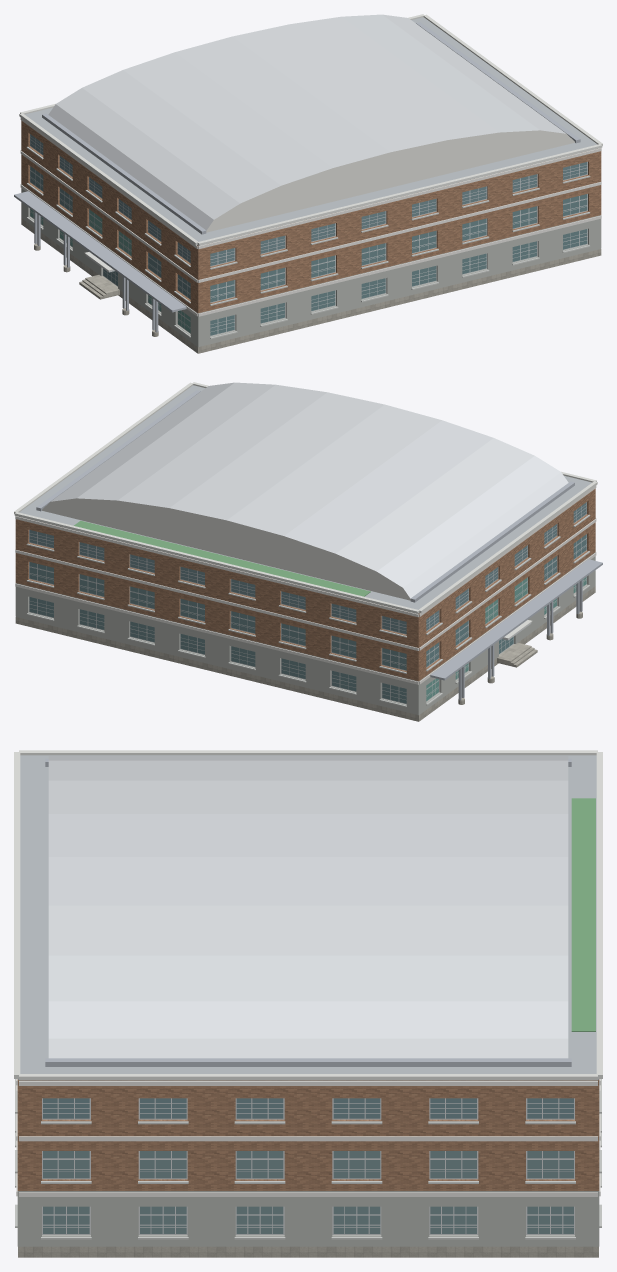
3 renders of one model, top to bottom at view 1: azimuth 30°, elevation 25°; view 2: azimuth 150°, elevation 25°; view 3: azimuth 270°, elevation 25°, orthographic. The views are drawn at different scales.
Visible parts, largest first — view 1: yunsong__vaultroof, yunsong__redbrick, yunsong__concrete, yunsong__panel, yunsong__glass, yunsong__metalroof, yunsong__band, yunsong__metalpanel, yunsong__frame, yunsong__cap, yunsong__stone, yunsong__clerestoryglass (+2 smaller); view 2: yunsong__vaultroof, yunsong__redbrick, yunsong__concrete, yunsong__panel, yunsong__glass, yunsong__band, yunsong__metalpanel, yunsong__frame, yunsong__cap, yunsong__metalroof, yunsong__stone, yunsong__clerestoryglass (+3 smaller); view 3: yunsong__vaultroof, yunsong__redbrick, yunsong__concrete, yunsong__metalroof, yunsong__sideglass, yunsong__cap, yunsong__band, yunsong__frame, yunsong__stone, yunsong__roofturf, yunsong__clerestoryglass, yunsong__metalpanel (+1 smaller).
Part boxes in pixels (x1=…): yunsong__vaultroof: x1=48, y1=14, x2=565, y2=230; yunsong__redbrick: x1=21, y1=120, x2=601, y2=313; yunsong__concrete: x1=21, y1=184, x2=601, y2=347; yunsong__panel: x1=206, y1=130, x2=574, y2=232; yunsong__glass: x1=30, y1=166, x2=587, y2=335; yunsong__metalroof: x1=25, y1=17, x2=597, y2=245; yunsong__band: x1=20, y1=117, x2=601, y2=316; yunsong__metalpanel: x1=14, y1=22, x2=580, y2=332; yunsong__frame: x1=30, y1=134, x2=587, y2=336; yunsong__cap: x1=19, y1=14, x2=602, y2=271; yunsong__stone: x1=21, y1=218, x2=601, y2=353; yunsong__clerestoryglass: x1=30, y1=134, x2=587, y2=265; yunsong__vaultroof: x1=51, y1=382, x2=568, y2=598; yunsong__redbrick: x1=15, y1=488, x2=595, y2=681; yunsong__concrete: x1=15, y1=552, x2=595, y2=715; yunsong__panel: x1=42, y1=498, x2=410, y2=600; yunsong__glass: x1=29, y1=534, x2=586, y2=703; yunsong__band: x1=15, y1=485, x2=596, y2=684; yunsong__metalpanel: x1=36, y1=390, x2=602, y2=700; yunsong__frame: x1=29, y1=502, x2=586, y2=704; yunsong__cap: x1=14, y1=382, x2=597, y2=639; yunsong__metalroof: x1=19, y1=385, x2=591, y2=613; yunsong__stone: x1=15, y1=586, x2=595, y2=721; yunsong__clerestoryglass: x1=29, y1=502, x2=586, y2=633; yunsong__vaultroof: x1=48, y1=756, x2=568, y2=1058; yunsong__redbrick: x1=17, y1=1079, x2=599, y2=1190; yunsong__concrete: x1=17, y1=1191, x2=599, y2=1246; yunsong__metalroof: x1=18, y1=755, x2=598, y2=1079; yunsong__sideglass: x1=43, y1=1151, x2=573, y2=1233; yunsong__cap: x1=14, y1=750, x2=602, y2=1080; yunsong__band: x1=16, y1=1079, x2=600, y2=1196; yunsong__frame: x1=42, y1=1098, x2=574, y2=1234; yunsong__stone: x1=18, y1=1246, x2=598, y2=1257; yunsong__roofturf: x1=571, y1=798, x2=595, y2=1031; yunsong__clerestoryglass: x1=43, y1=1098, x2=573, y2=1118; yunsong__metalpanel: x1=45, y1=758, x2=571, y2=1066.
Size of the model in its own units: 52.73 by 17.25 by 38.52.
Materials: 19 (2 with a texture image).
